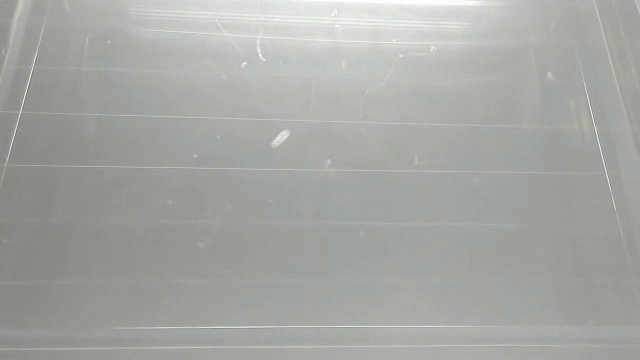alpha: (270, 127, 292, 150)
